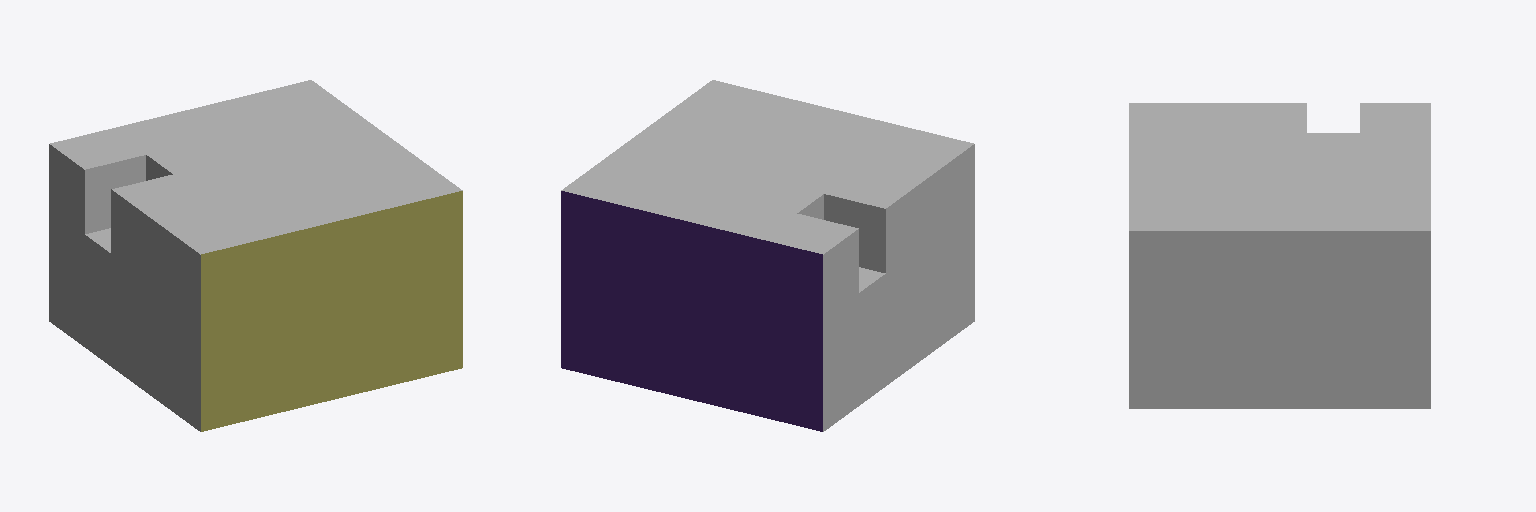
File: houser.obj
3 renders of one model, left to right at view 1: azimuth 30°, elevation 25°; view 2: azimuth 150°, elevation 25°; view 3: azimuth 270°, elevation 25°, orthographic.
Parts seen in each view (by area): view 1: Solid1; view 2: Solid1; view 3: Solid1.
Boxes of the visible parts, box(x1,y1,x2,y2) form: Solid1: box(49, 80, 462, 431); Solid1: box(561, 80, 974, 431); Solid1: box(1129, 103, 1430, 408).
Bounding box in the file's own units: 85 × 55 × 85.